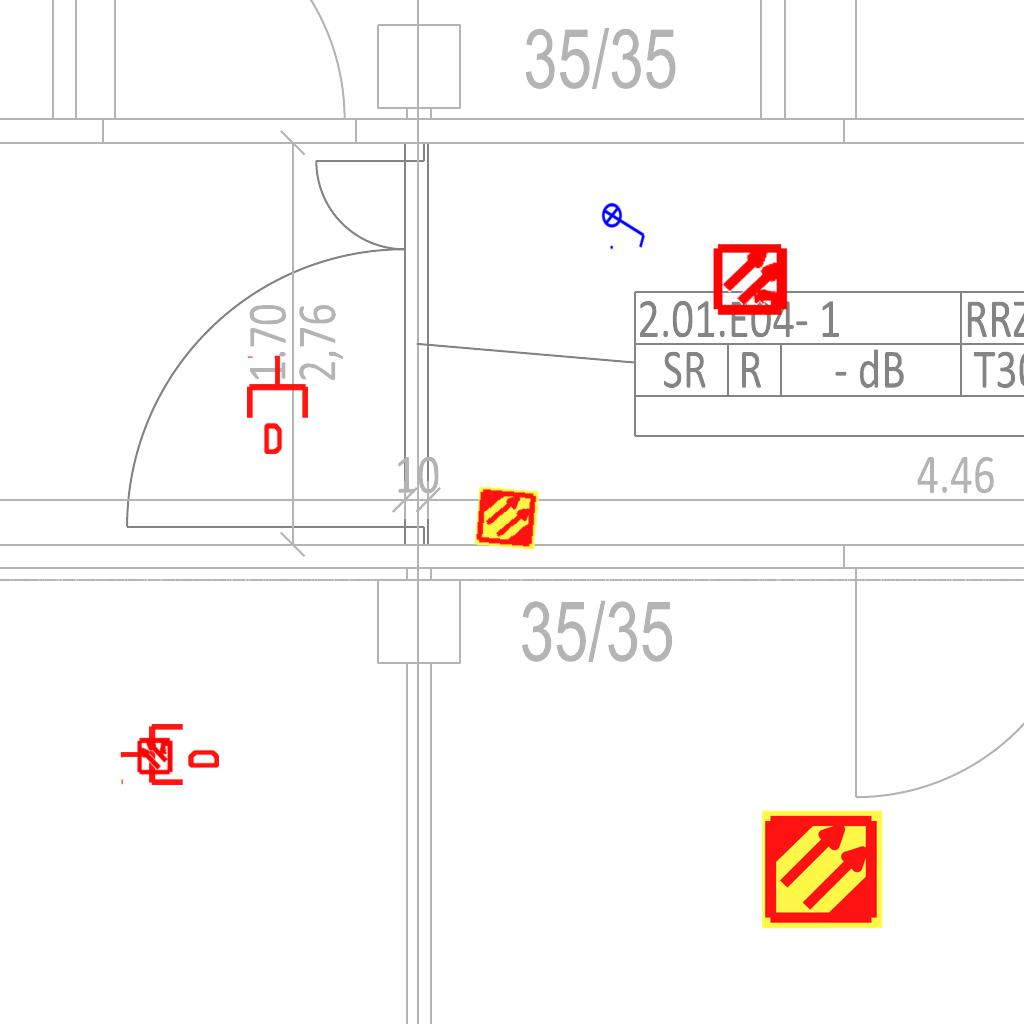ASR_Ansaugrauchmelder: (760, 807, 885, 932), (473, 484, 541, 552)
Ausschalter_beleuchtet: (601, 196, 649, 252)
Datenanschluss_einfach: (119, 720, 219, 789), (243, 354, 312, 454)
OT_Multisensormelder_(Kombination_RMO_WMD): (696, 223, 809, 336), (127, 727, 183, 783)
